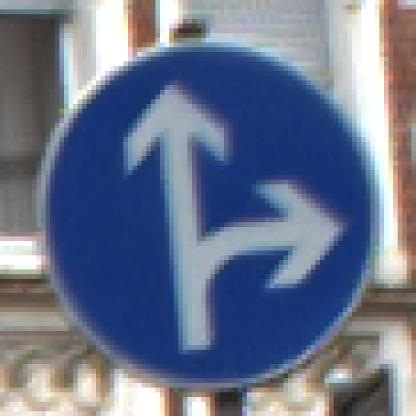Straight or Right: (38, 34, 381, 384)
